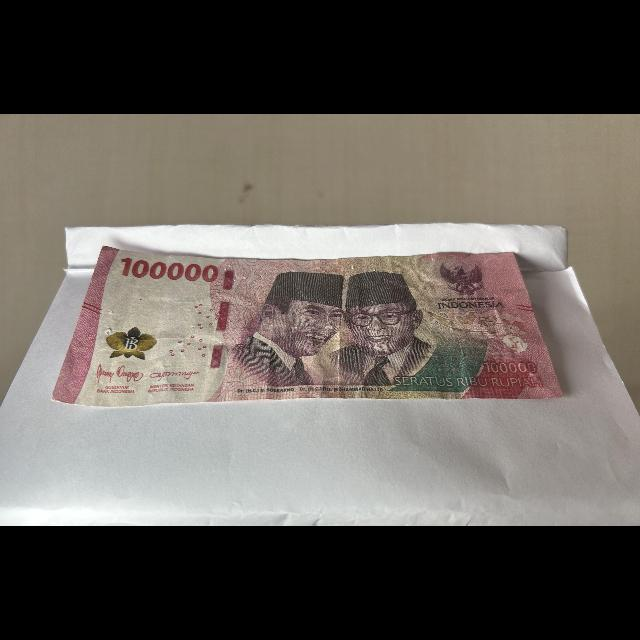Palsu-100k: (43, 234, 568, 410)
Tinta-Palsu-100k: (102, 324, 161, 363)
